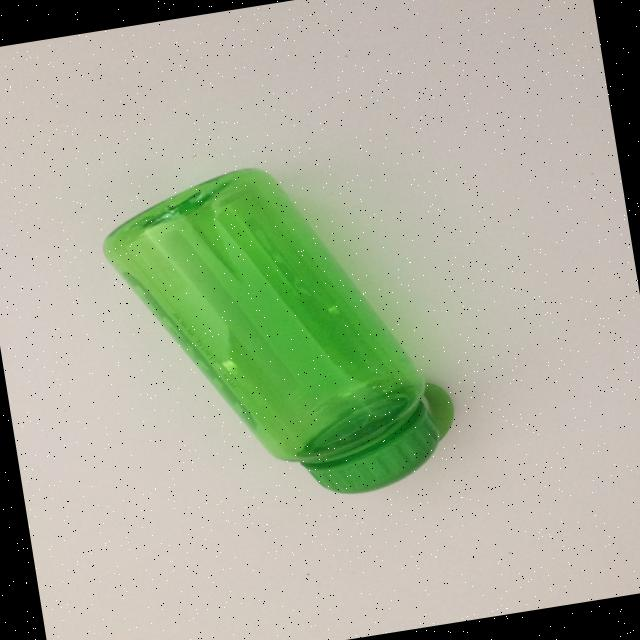plastic: (93, 140, 465, 528)
